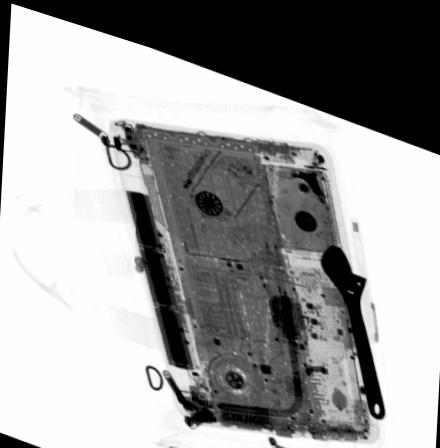Wrench: (318, 223, 386, 397)
